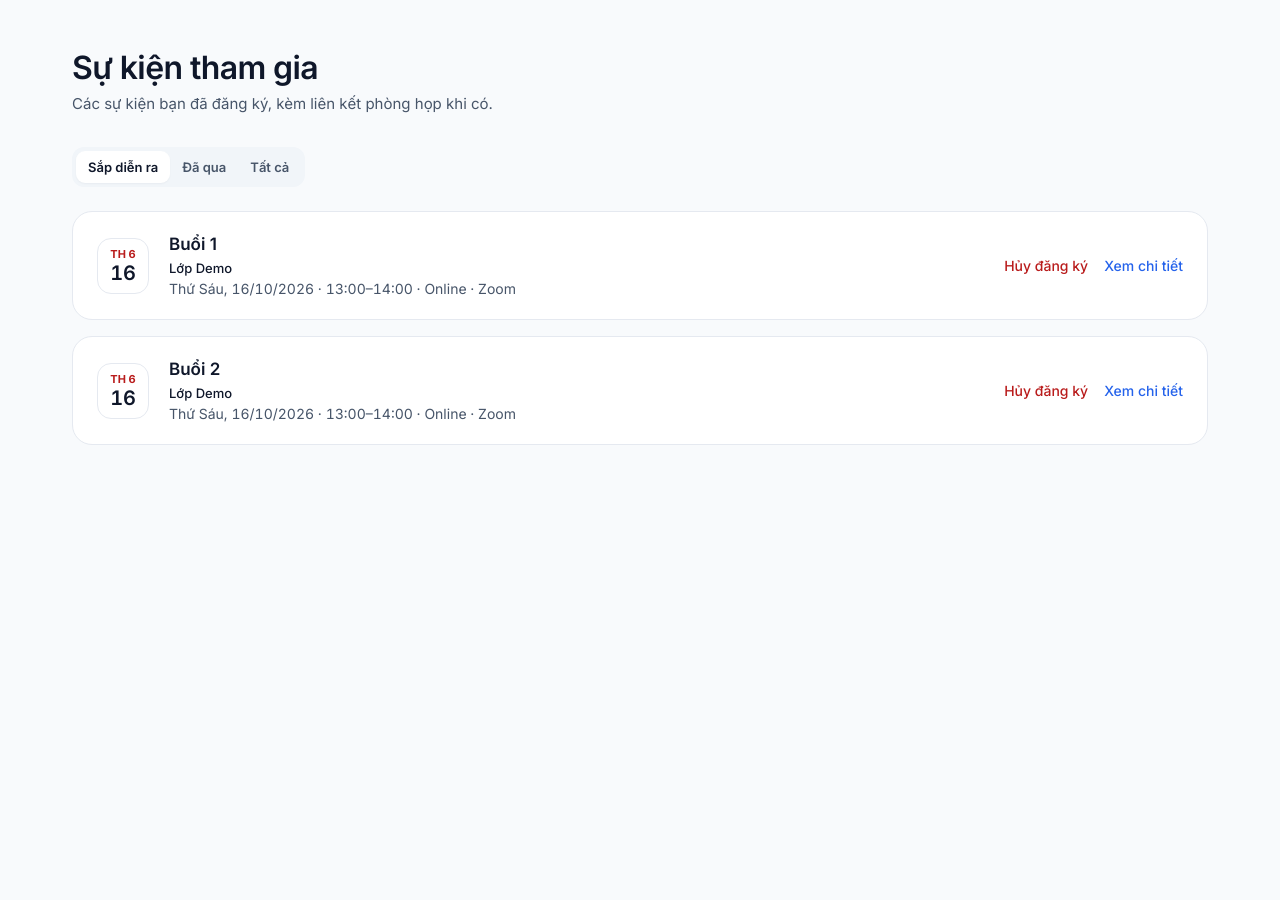
Test: MyEventsPage › cancels a registration through the confirm dialog and drops the event
The width and height of the screenshot is (1280, 900).
Click the button with aria-label "Hủy đăng ký Buổi 1". click: (1046, 266)
box: [1004, 256, 1088, 276]
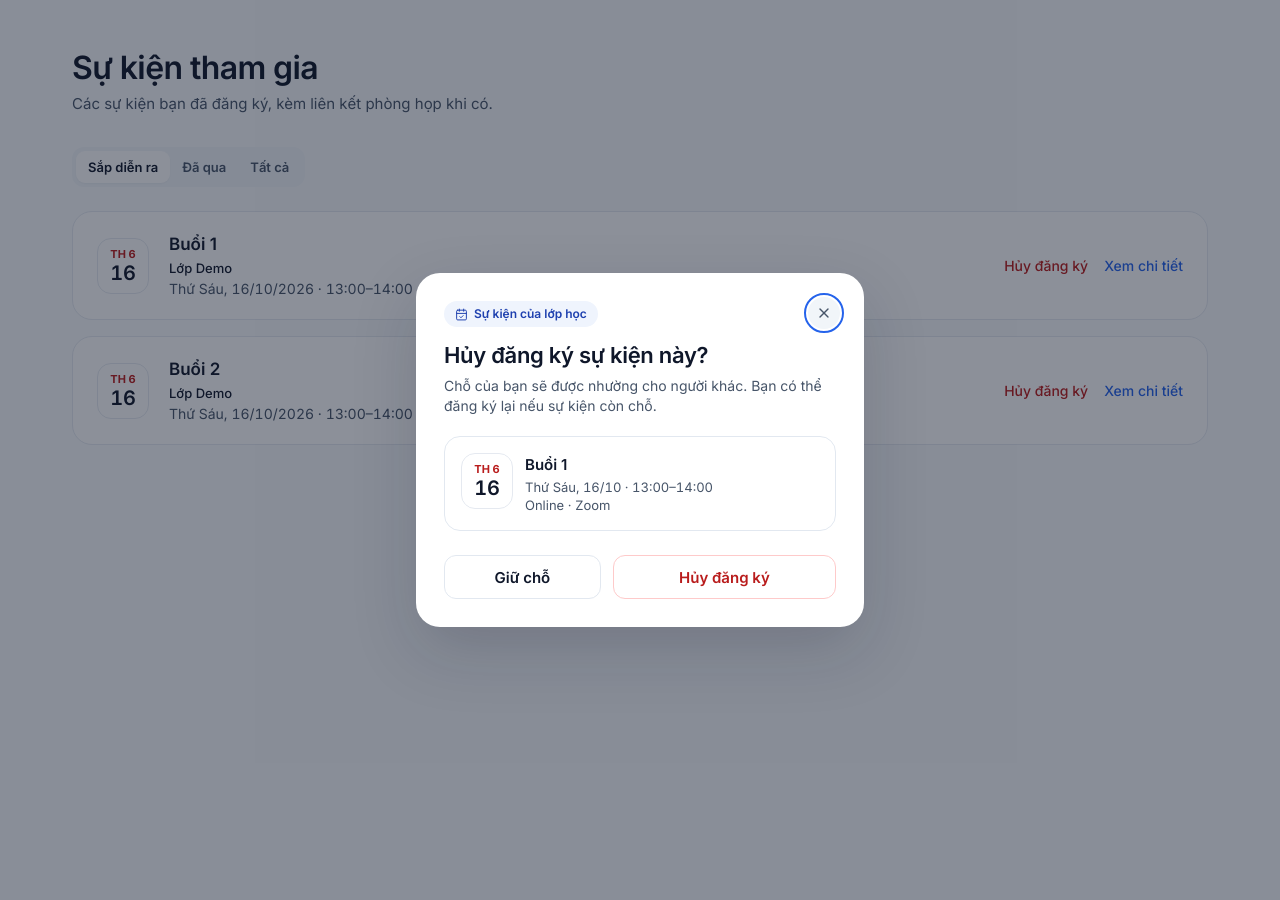
Click the button "Hủy đăng ký". click: (724, 577)
box: [613, 555, 836, 599]
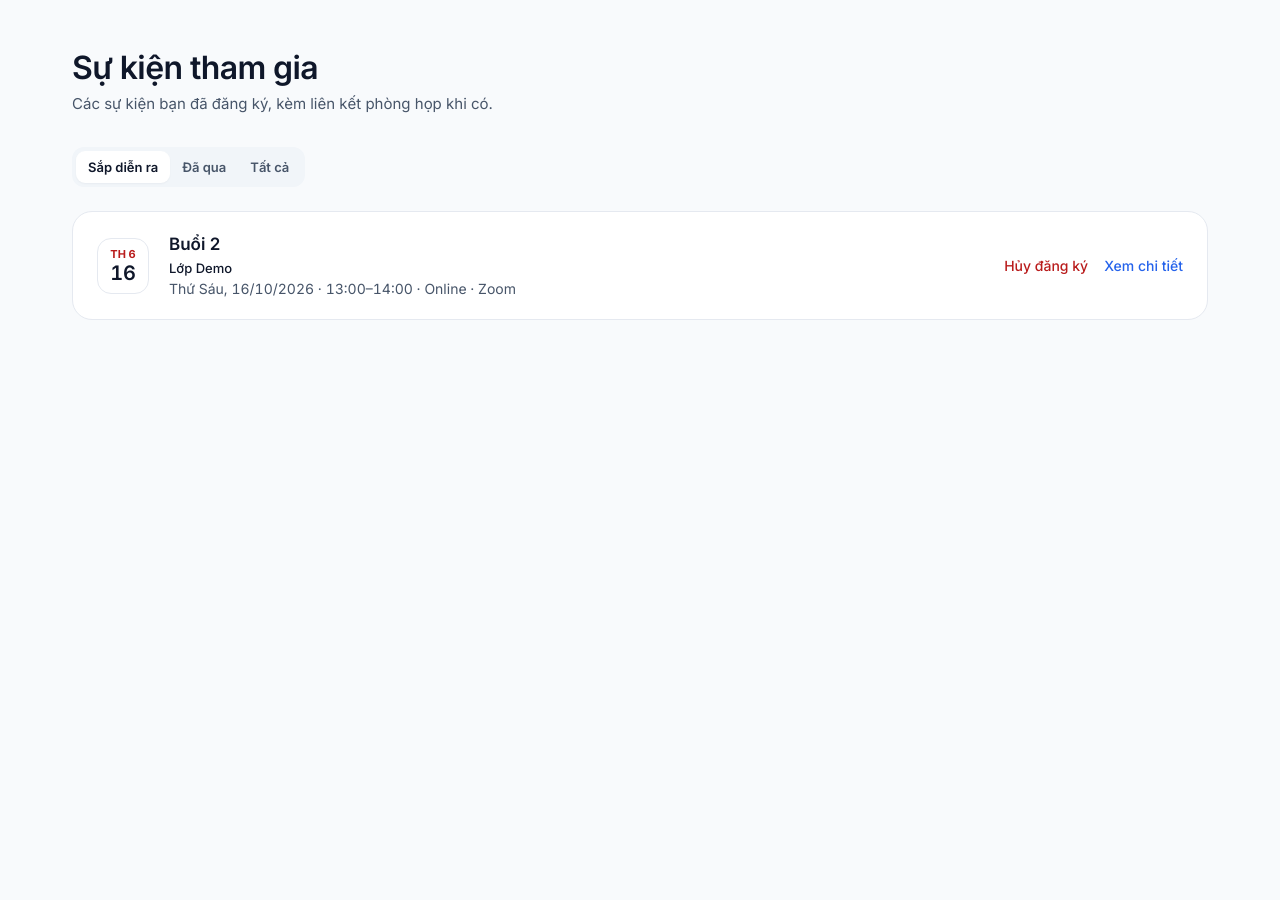
Expected: the link "Buổi 2" is shown, [169, 234, 220, 254]
Expected: the link "Buổi 1" is gone
